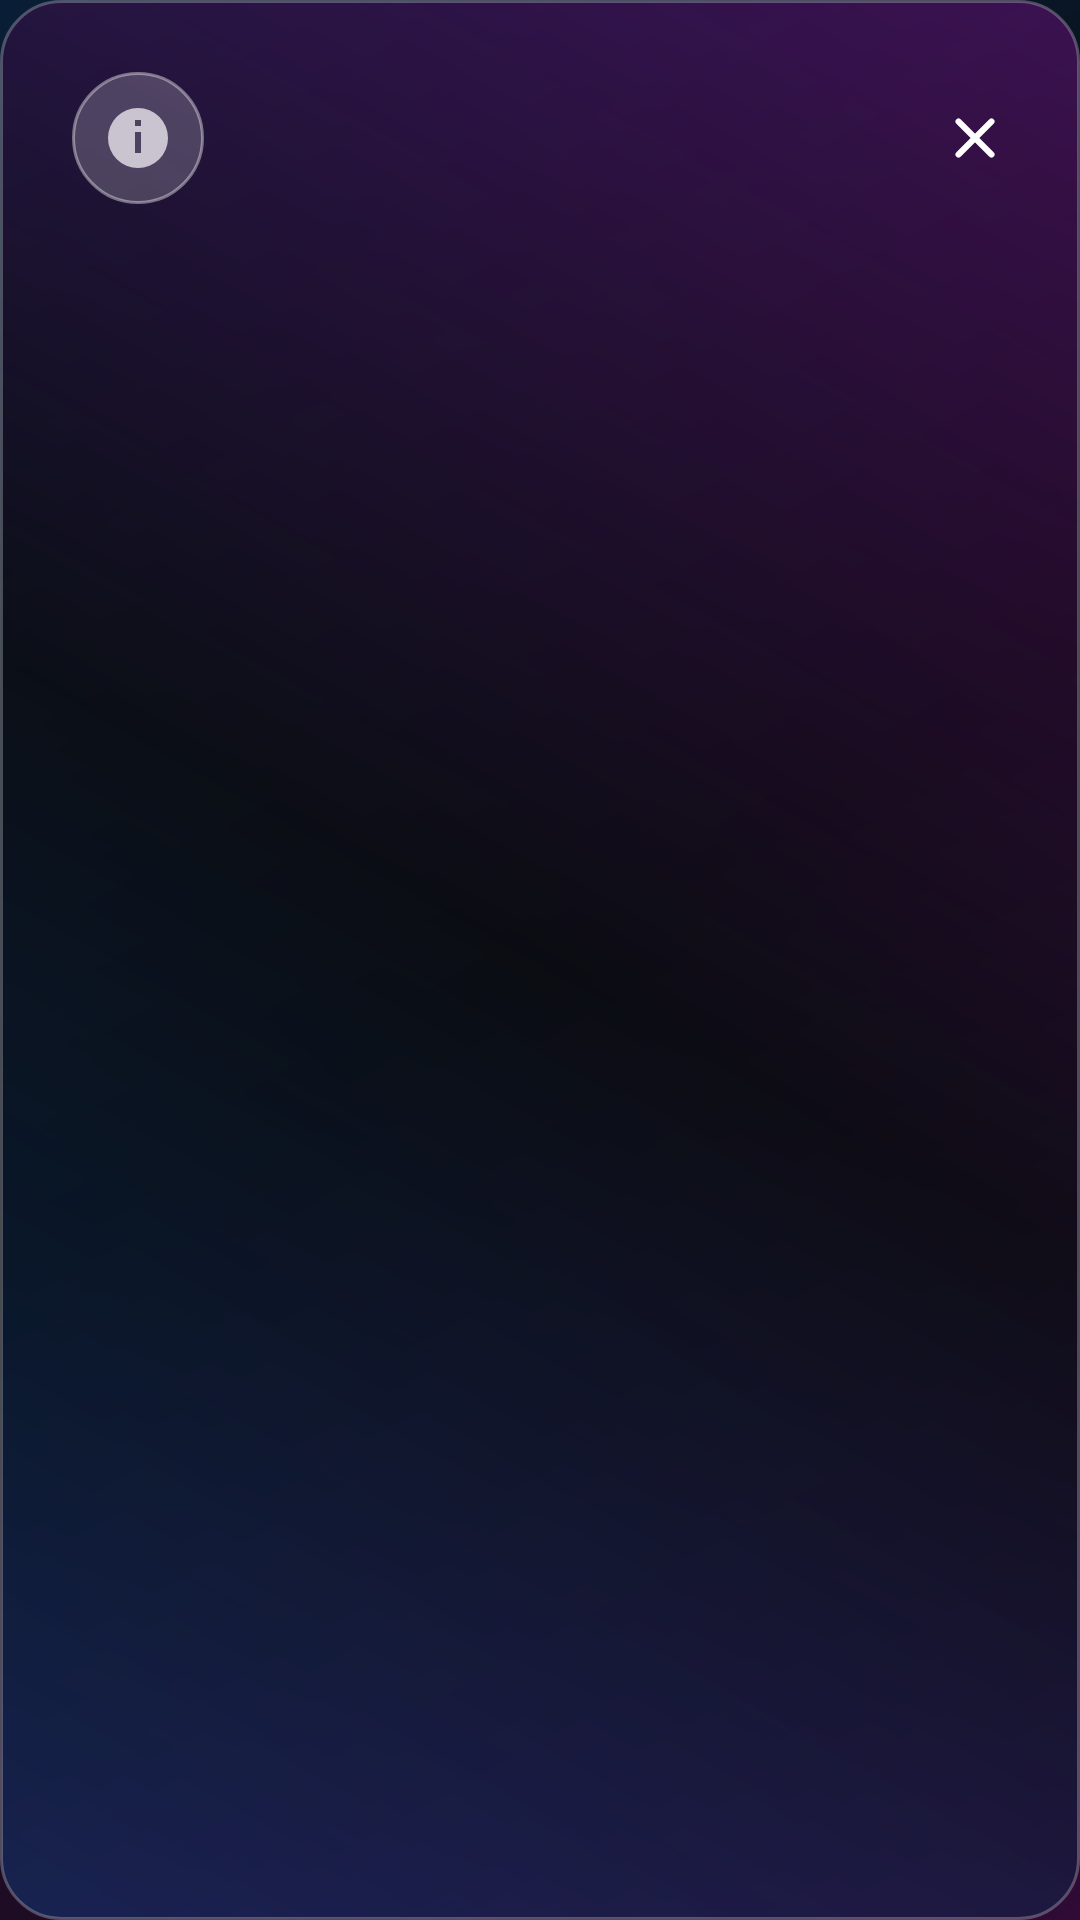

Point at icon controls on the screen. Image size 1080px x 1920px, points as [x,y].
Clear: [975,138]
info: [138,138]
